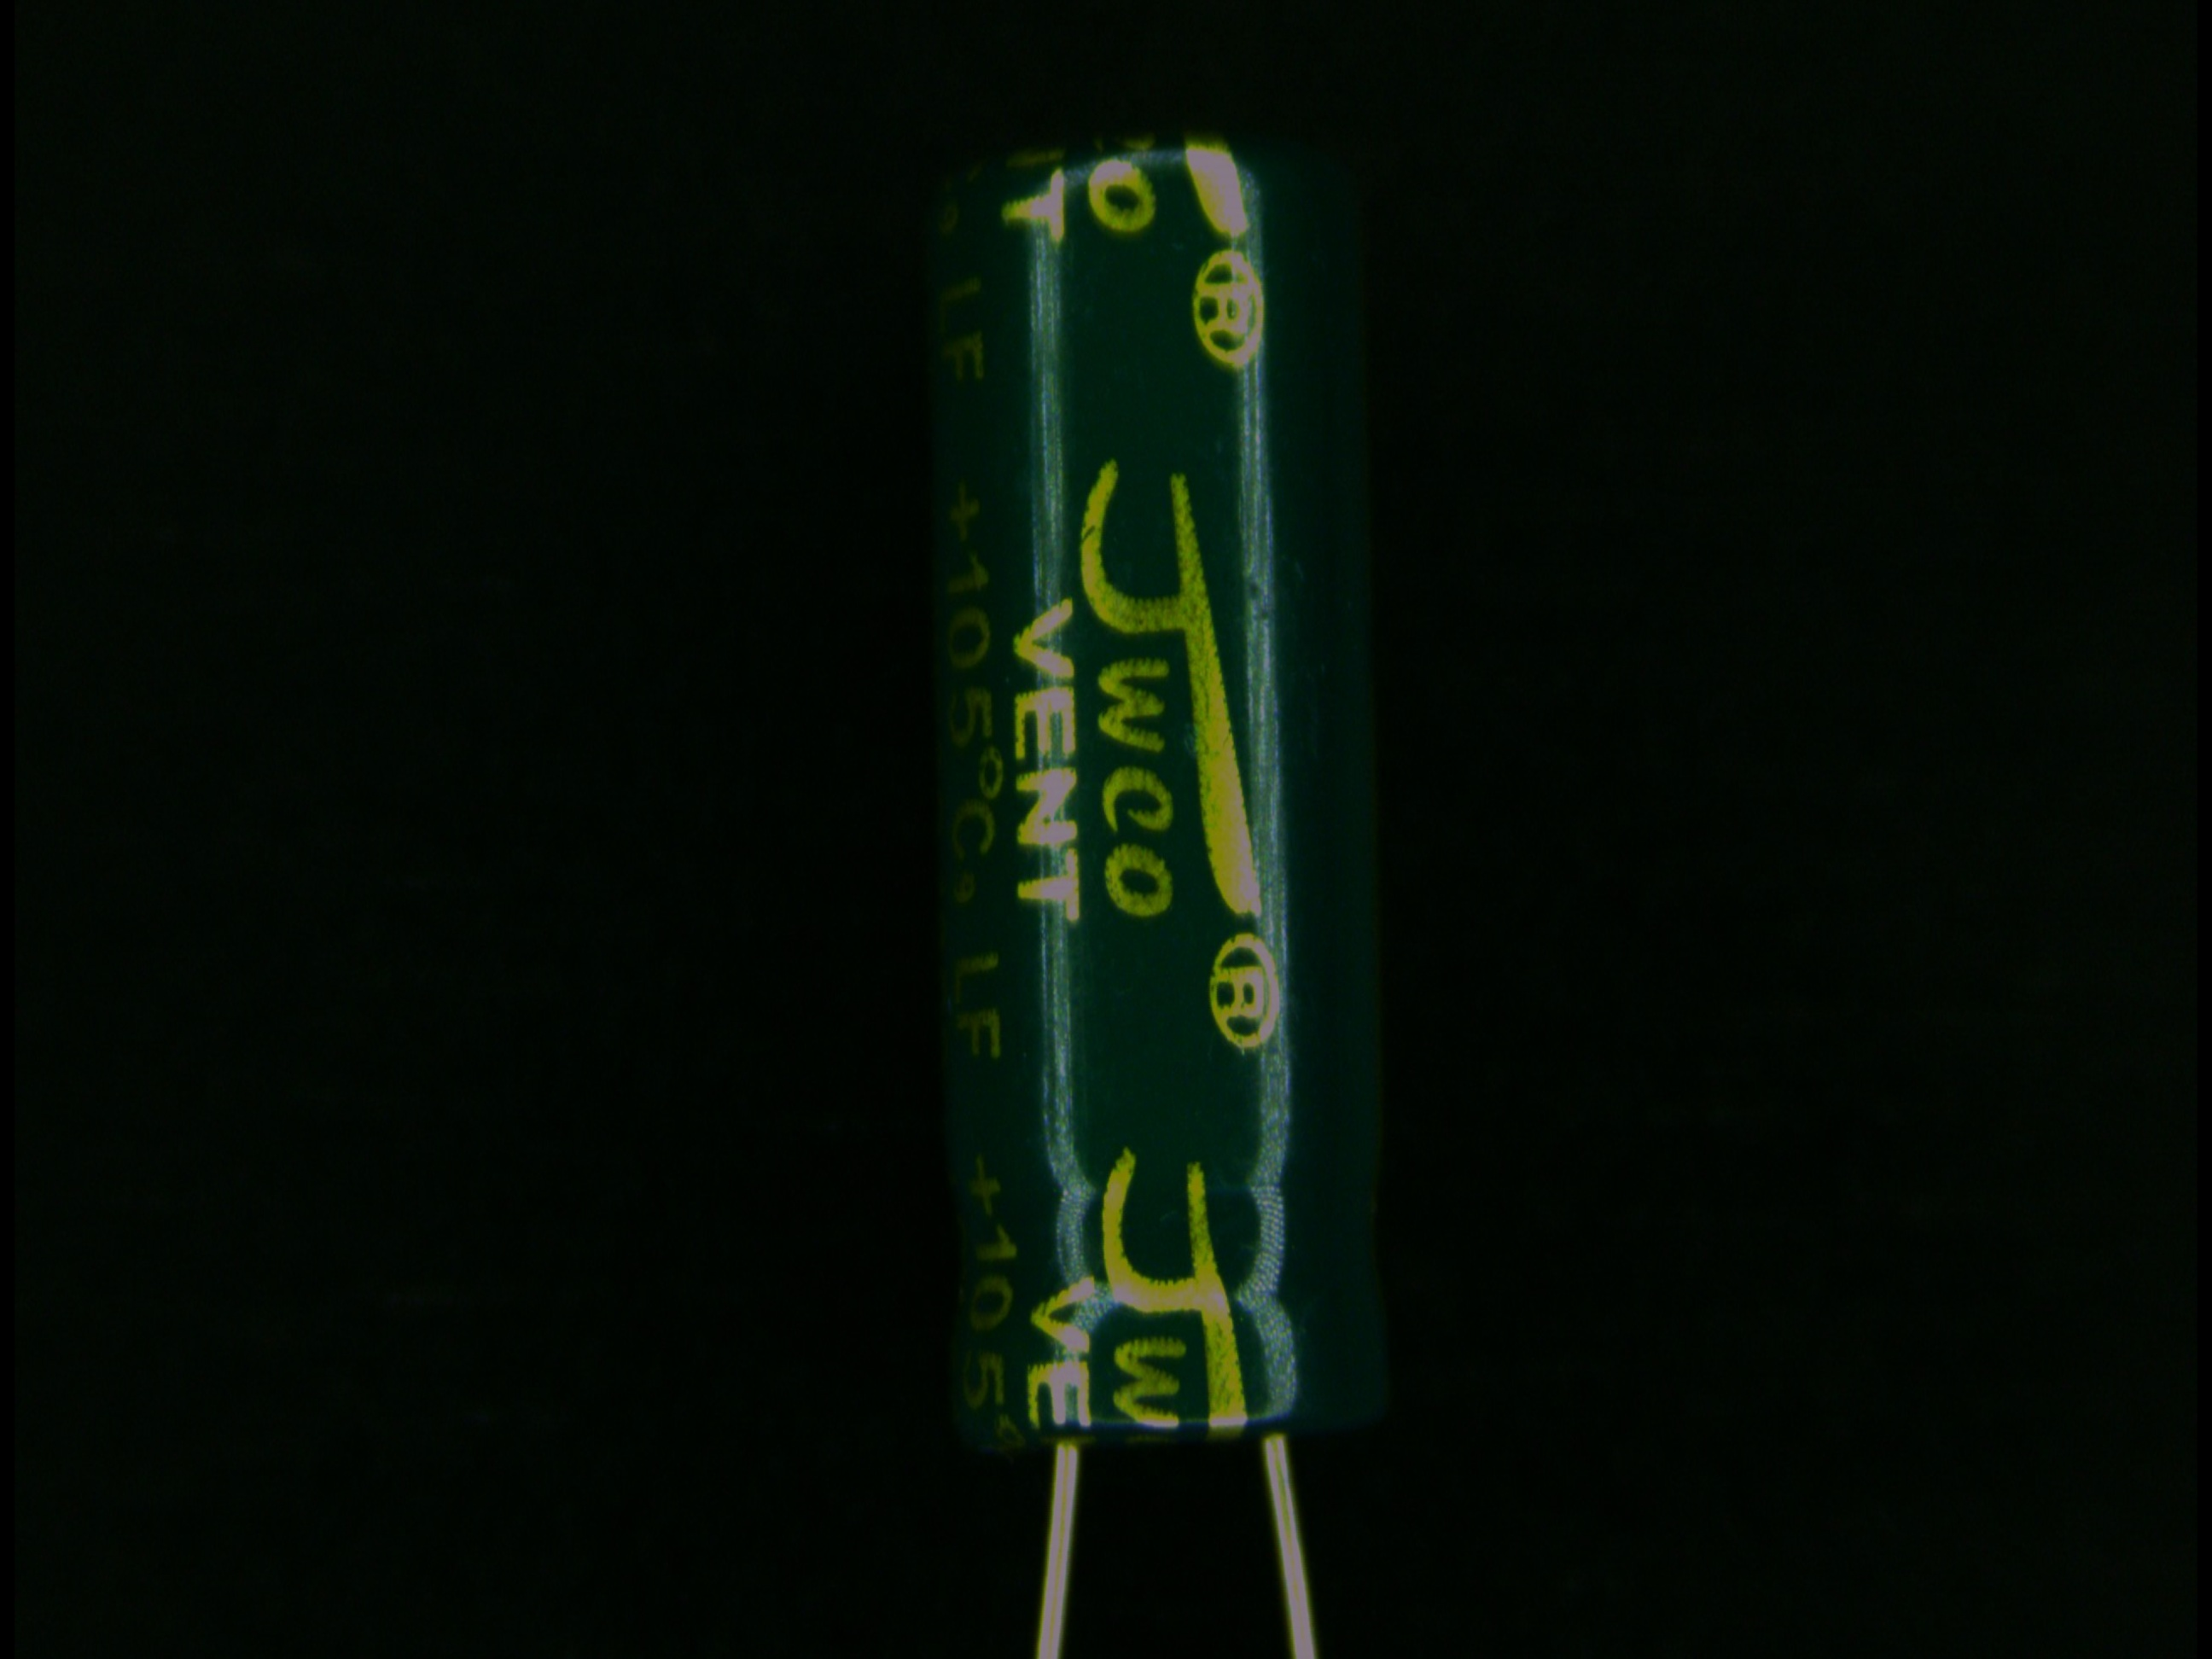c1: (918, 127, 1400, 1612)
